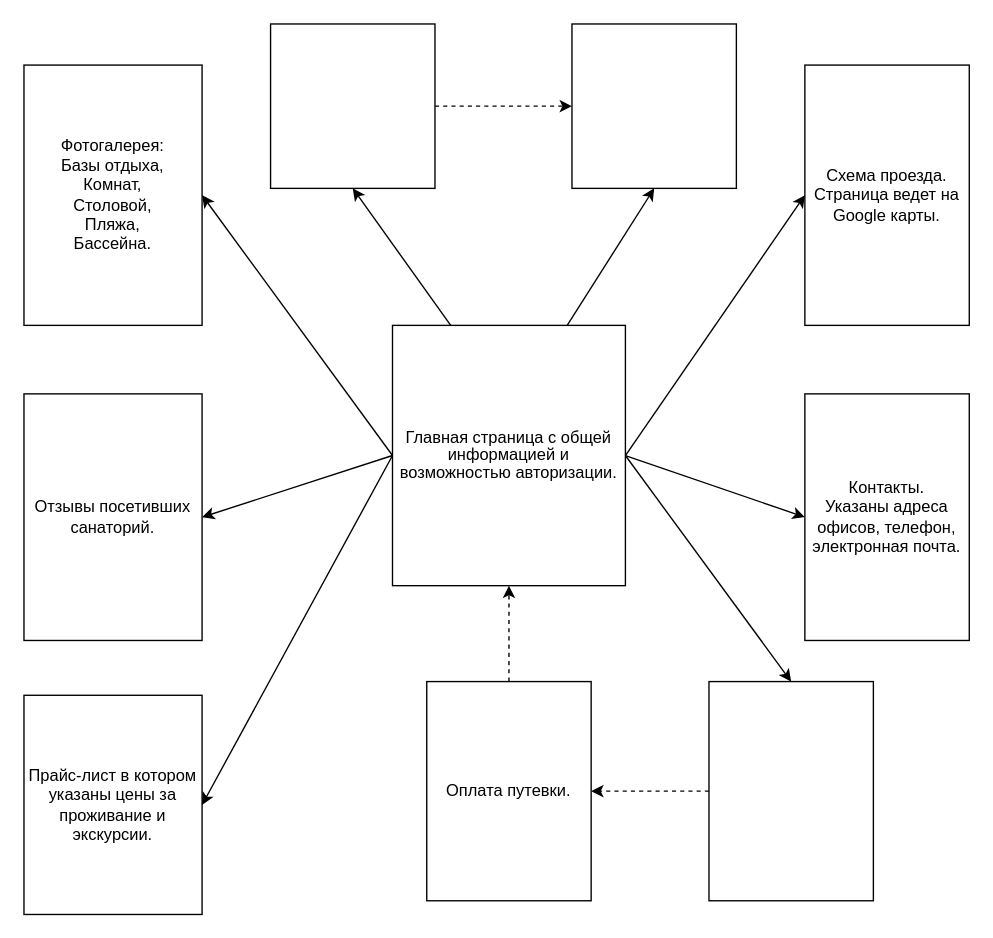
This 993x938 diagram has some shape labels left out. The shapes that lost their labels are listed below. From the top down, each one's centre as x and y in pixels, then its label:
the point at 352,105: Регистрация.
the point at 653,105: Личный кабинет.
the point at 790,790: Бронирование. Выбор услуги, дата поездки, выбор комнаты.
